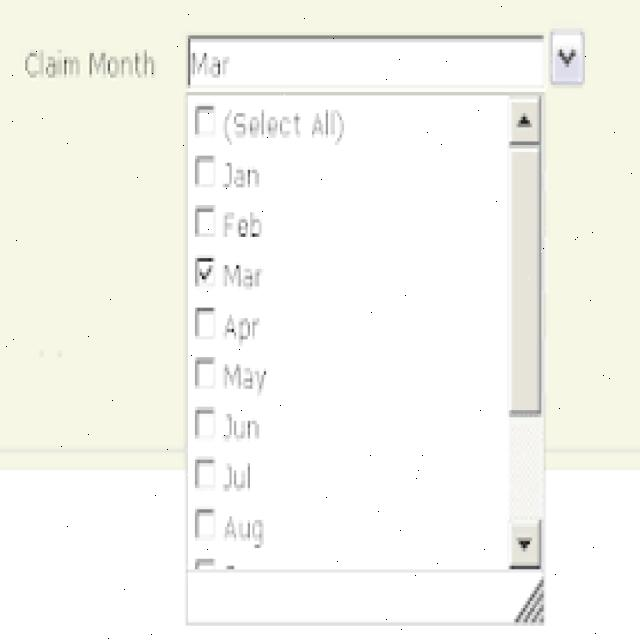checkbox: (193, 153, 219, 189), (193, 456, 219, 490), (194, 407, 219, 441), (194, 105, 218, 140), (194, 507, 218, 542), (193, 256, 218, 289), (193, 205, 218, 238), (194, 358, 219, 390), (194, 306, 217, 339)
dropdownMenu: (186, 32, 587, 87)
label: (14, 42, 165, 85)
upDown: (181, 90, 543, 570)
